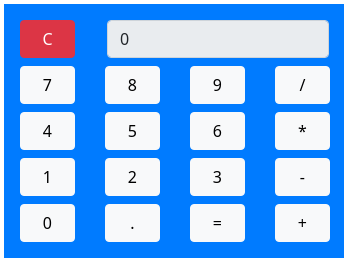
Scenario: Calculadora › must to clean the number input field
Click the button "2".
click(132, 177)  # box left=105, top=158, right=160, bottom=196
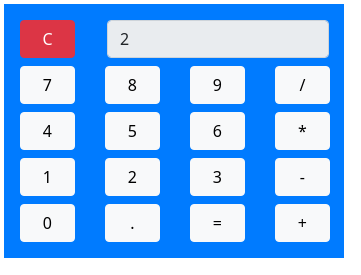
Click the button "C".
click(47, 39)  # box left=20, top=20, right=75, bottom=58
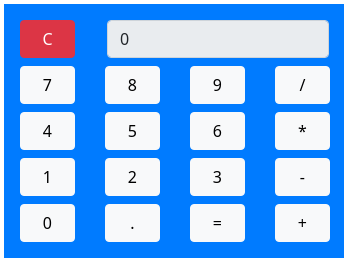
Check: the field with test id "txtNumeros" holds "0", box left=107, top=20, right=329, bottom=58
